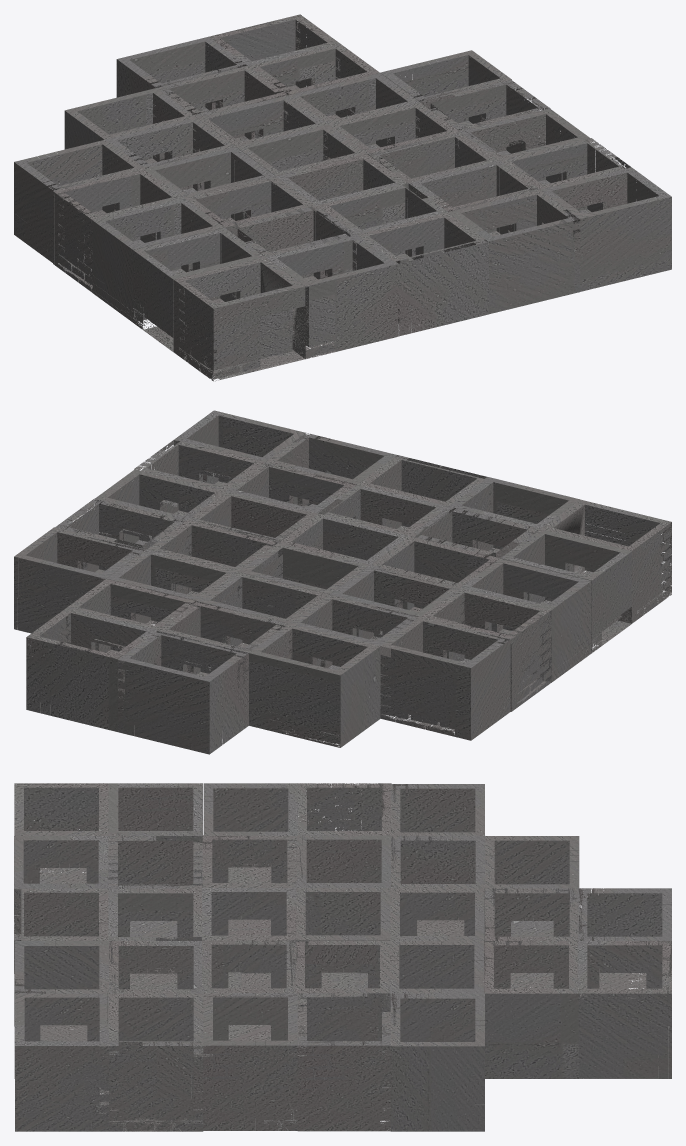
The picture shows the model from 3 angles, top to bottom: view 1: azimuth 30°, elevation 25°; view 2: azimuth 150°, elevation 25°; view 3: azimuth 270°, elevation 25°; orthographic projection. The views are drawn at different scales.
Visible parts, largest first — view 1: Scene; view 2: Scene; view 3: Scene.
Part boxes in pixels (left/top/right/bottom): Scene: left=14, top=14, right=671, bottom=381; Scene: left=14, top=410, right=671, bottom=754; Scene: left=14, top=783, right=671, bottom=1131.
Bounding box in the file's own units: 1320 × 200 × 1396.
Materials: 1 (1 with a texture image).
